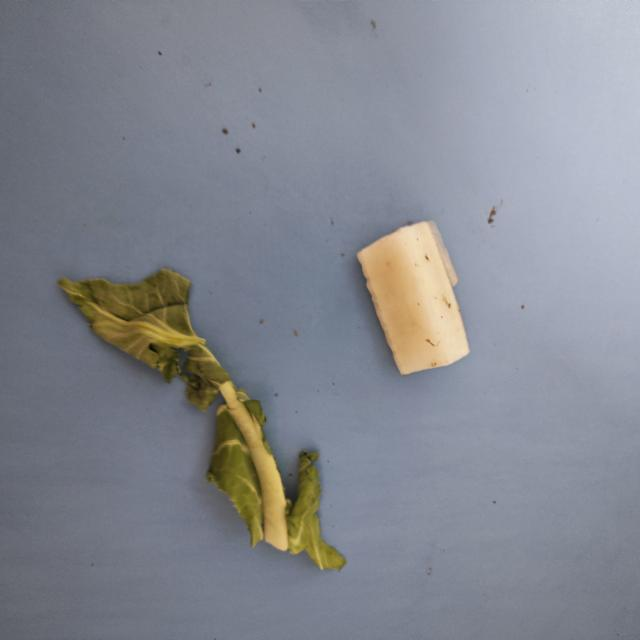-Kitchen waste - vegetable roots and leaves-: (62, 258, 340, 573)
-Kitchen waste - white radish-: (356, 200, 475, 377)
